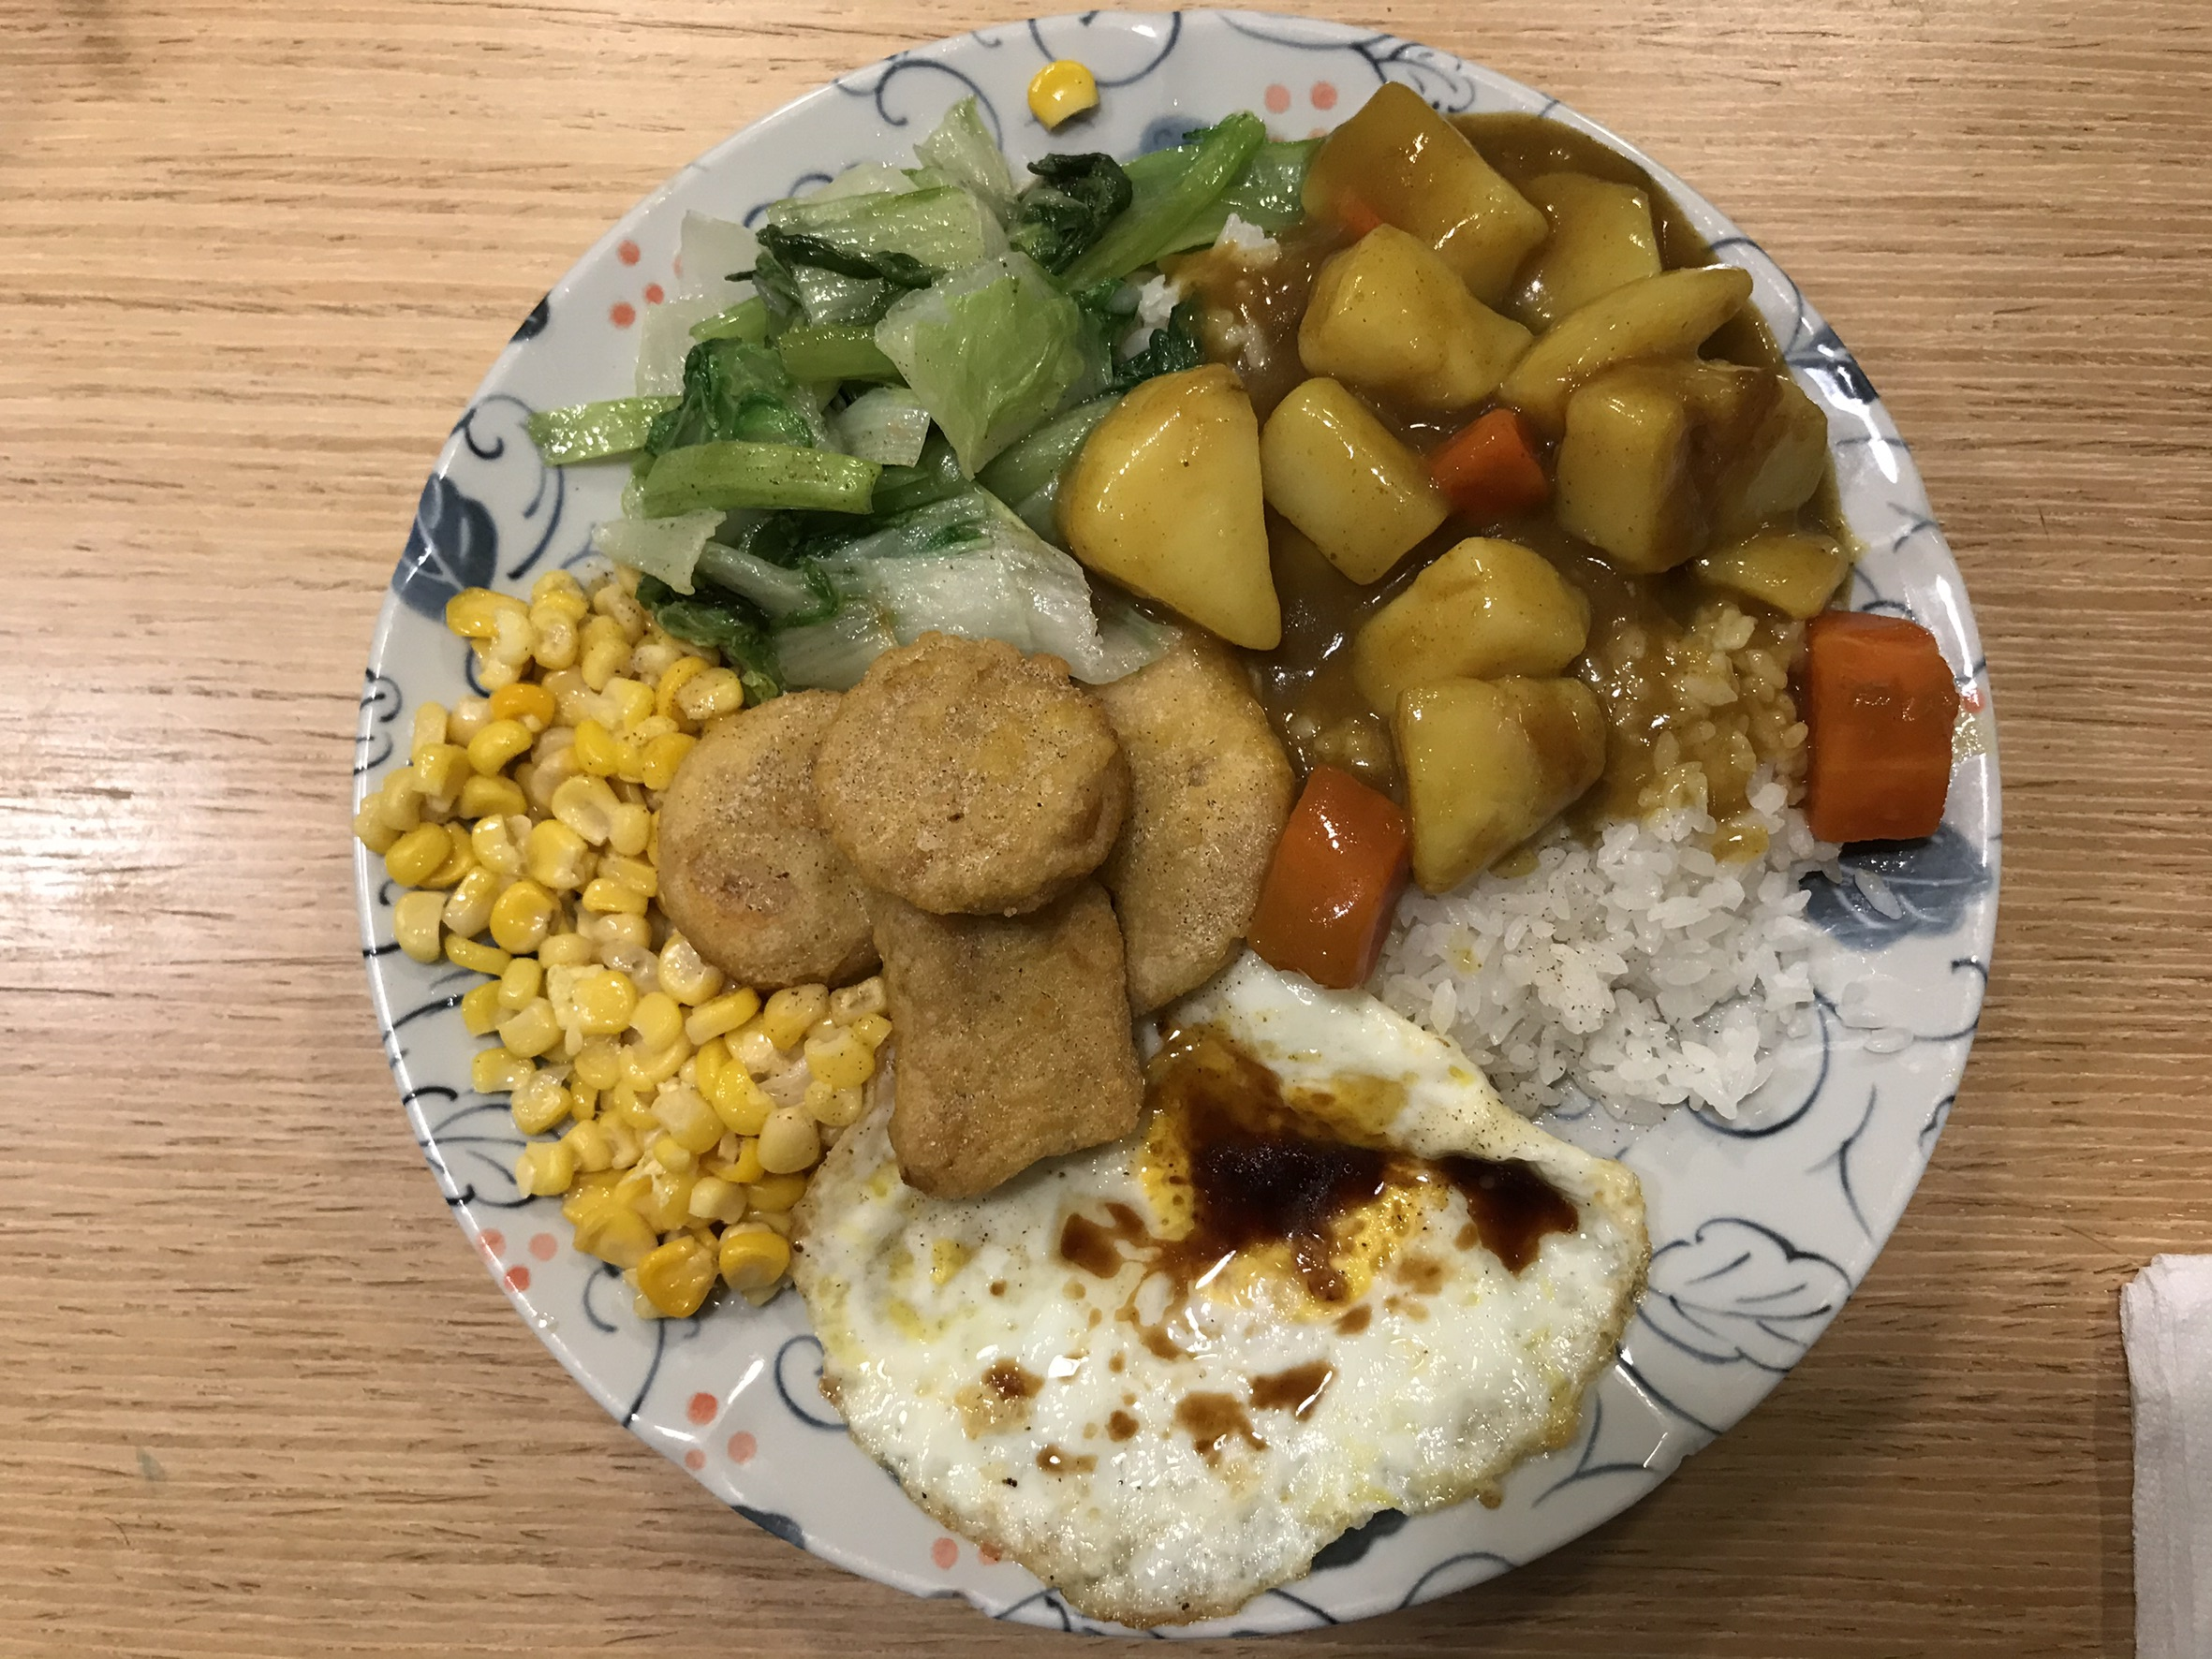chicken_nuggets: (652, 636, 1290, 1197)
curry: (1194, 112, 1954, 845)
fried_eggs: (797, 1004, 1649, 1619)
rice: (1363, 809, 1827, 1112)
